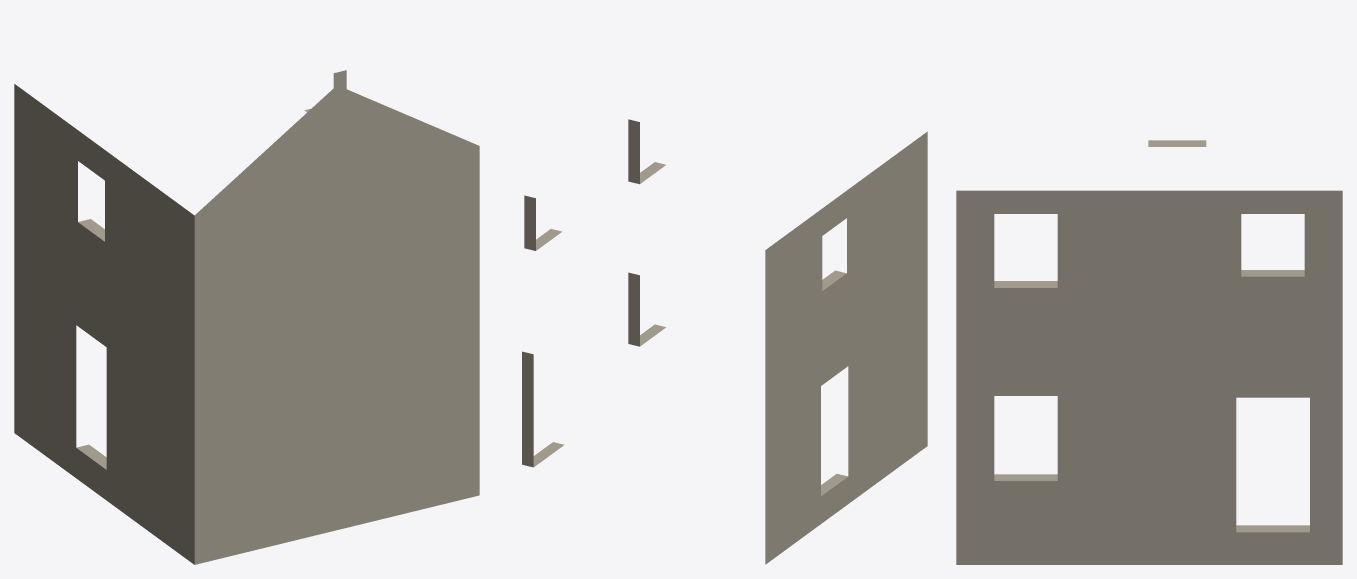
The model's file is SM_Bld_074_Render.glb.
3 renders of one model, left to right at view 1: azimuth 30°, elevation 25°; view 2: azimuth 150°, elevation 25°; view 3: azimuth 270°, elevation 25°, orthographic. The views are drawn at different scales.
Parts seen in each view (by area): view 1: SM_Bld_074_Render; view 2: SM_Bld_074_Render; view 3: SM_Bld_074_Render.
Part boxes in pixels (<box>): SM_Bld_074_Render: <box>14,70,479,564</box>; SM_Bld_074_Render: <box>522,119,927,564</box>; SM_Bld_074_Render: <box>956,140,1342,564</box>.
Size of the model in its own units: 4.87 by 7.26 by 5.33.
